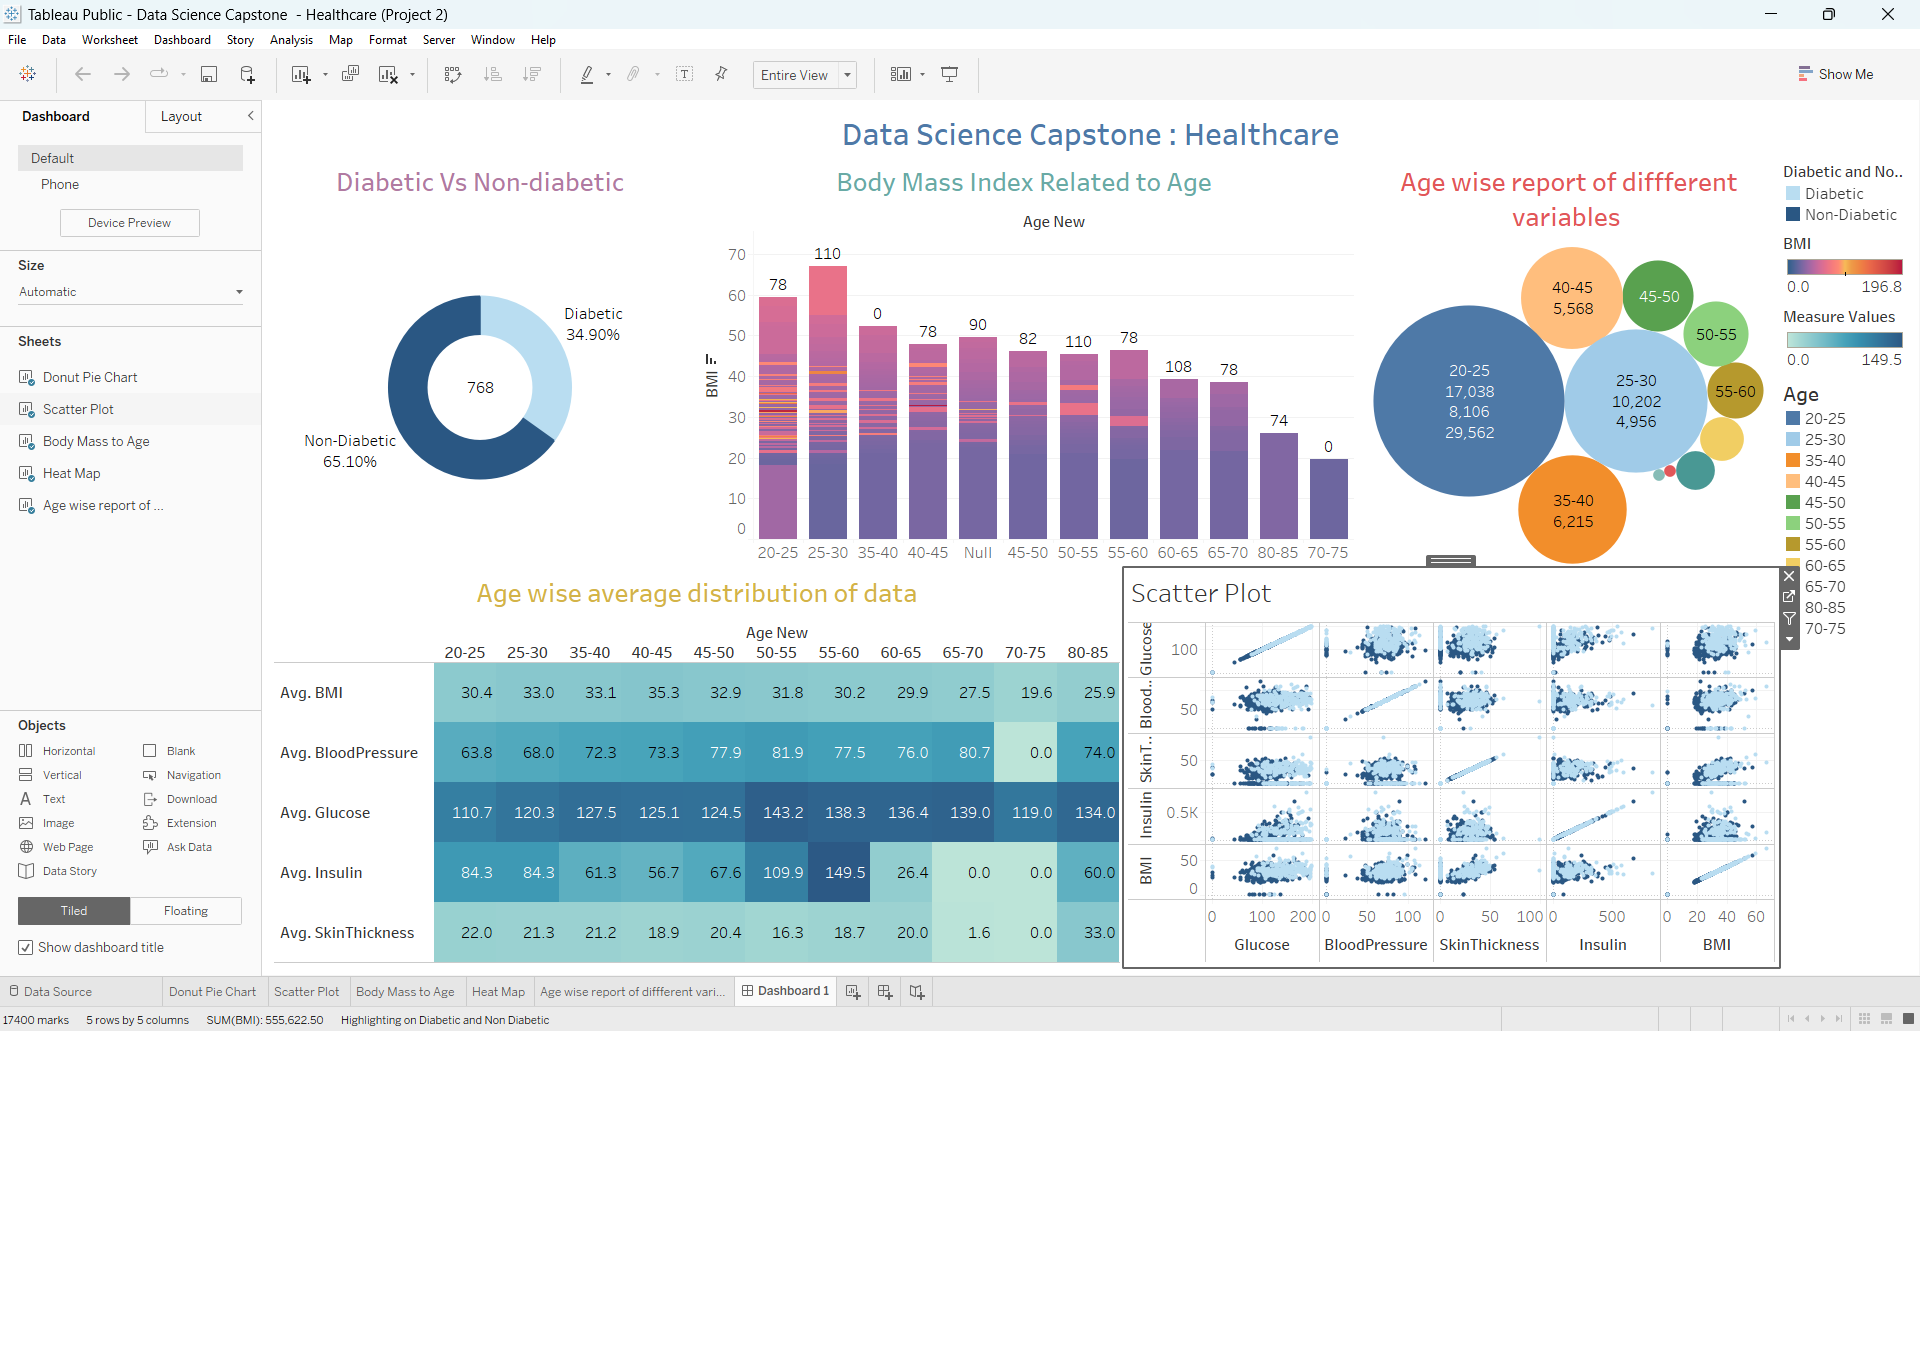

The dashboard page shown, as its layout file describes it:
{"tool":"tableau","page":{"name":"Dashboard 1","canvas":[1000,1000],"units":"permille","ordinal":0},"visuals":[{"type":"title","box":[4.8,9.4,990.3,57.6]},{"type":"worksheet","title":"Donut Pie Chart","mark":"Pie","rows":["Calculation_889742468407427075","Calculation_889742468407427075"],"box":[4.8,67,253.6,468.9]},{"type":"worksheet","title":"Body Mass to Age","mark":"Bar","rows":["BMI"],"cols":["Calculation_889742468406673409"],"box":[258.4,67,403.4,468.9]},{"type":"worksheet","title":"Age wise report of diffferent variables ","mark":"Circle","box":[661.9,67,253.7,468.9]},{"type":"legend","title":"Scatter Plot","param":"[federated.0ylld0m1n4jmun1e45twf02ckdf7].[none:Calculation_889742468406894594:nk","box":[915.5,67,79.7,84.6]},{"type":"legend","title":"Body Mass to Age","param":"[federated.0ylld0m1n4jmun1e45twf02ckdf7].[sum:BMI:qk]","box":[915.5,151.6,79.7,85.8]},{"type":"legend","title":"Heat Map","param":"[federated.0ylld0m1n4jmun1e45twf02ckdf7].[Multiple Values]","box":[915.5,237.4,79.7,85.8]},{"type":"legend","title":"Age wise report of diffferent variables ","param":"[federated.0ylld0m1n4jmun1e45twf02ckdf7].[none:Calculation_889742468406673409:nk","box":[915.5,323.2,79.7,314.9]},{"type":"worksheet","title":"Heat Map","mark":"Square","cols":["Calculation_889742468406673409"],"box":[4.8,535.9,515.5,454.7]},{"type":"worksheet","title":"Scatter Plot","mark":"Circle","rows":["Glucose","BloodPressure","SkinThickness","Insulin","BMI"],"cols":["Glucose","BloodPressure","SkinThickness","Insulin","BMI"],"box":[520.3,535.9,395.2,454.7]}]}

Visuals, with their boxes on the dashboard's canvas, which has no fixed pixel size, in thousandths of its width and height (x1, y1, x2, y2). These are canvas units, not pixel positions in the 1920x1371 screenshot, which may show the page scaled, cropped or inside an application window:
title: <bbox>5, 9, 995, 67</bbox>
"Donut Pie Chart" worksheet (Pie marks): <bbox>5, 67, 258, 536</bbox>
"Body Mass to Age" worksheet (Bar marks): <bbox>258, 67, 662, 536</bbox>
"Age wise report of diffferent variables " worksheet (Circle marks): <bbox>662, 67, 916, 536</bbox>
"Scatter Plot" legend: <bbox>916, 67, 995, 152</bbox>
"Body Mass to Age" legend: <bbox>916, 152, 995, 237</bbox>
"Heat Map" legend: <bbox>916, 237, 995, 323</bbox>
"Age wise report of diffferent variables " legend: <bbox>916, 323, 995, 638</bbox>
"Heat Map" worksheet (Square marks): <bbox>5, 536, 520, 991</bbox>
"Scatter Plot" worksheet (Circle marks): <bbox>520, 536, 916, 991</bbox>
